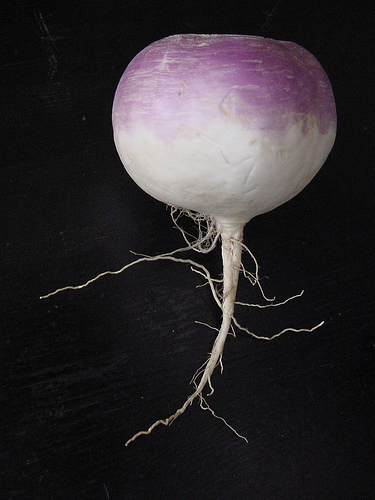turnip: (37, 27, 337, 452)
